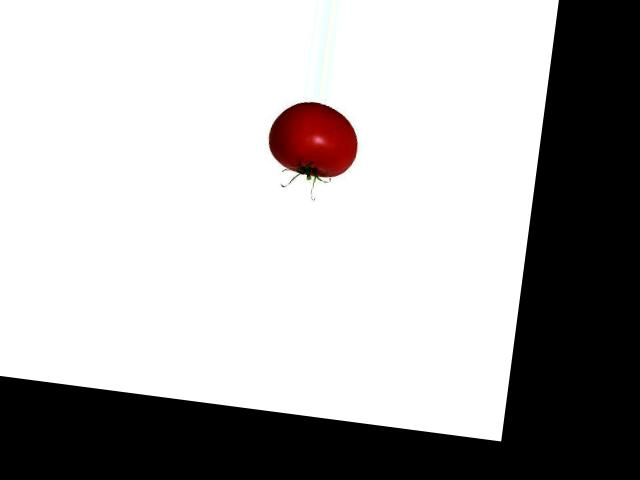tomato: (266, 97, 361, 180)
